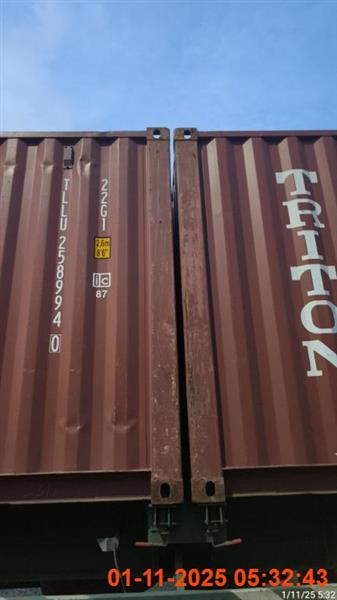broken: (0, 127, 335, 595)
